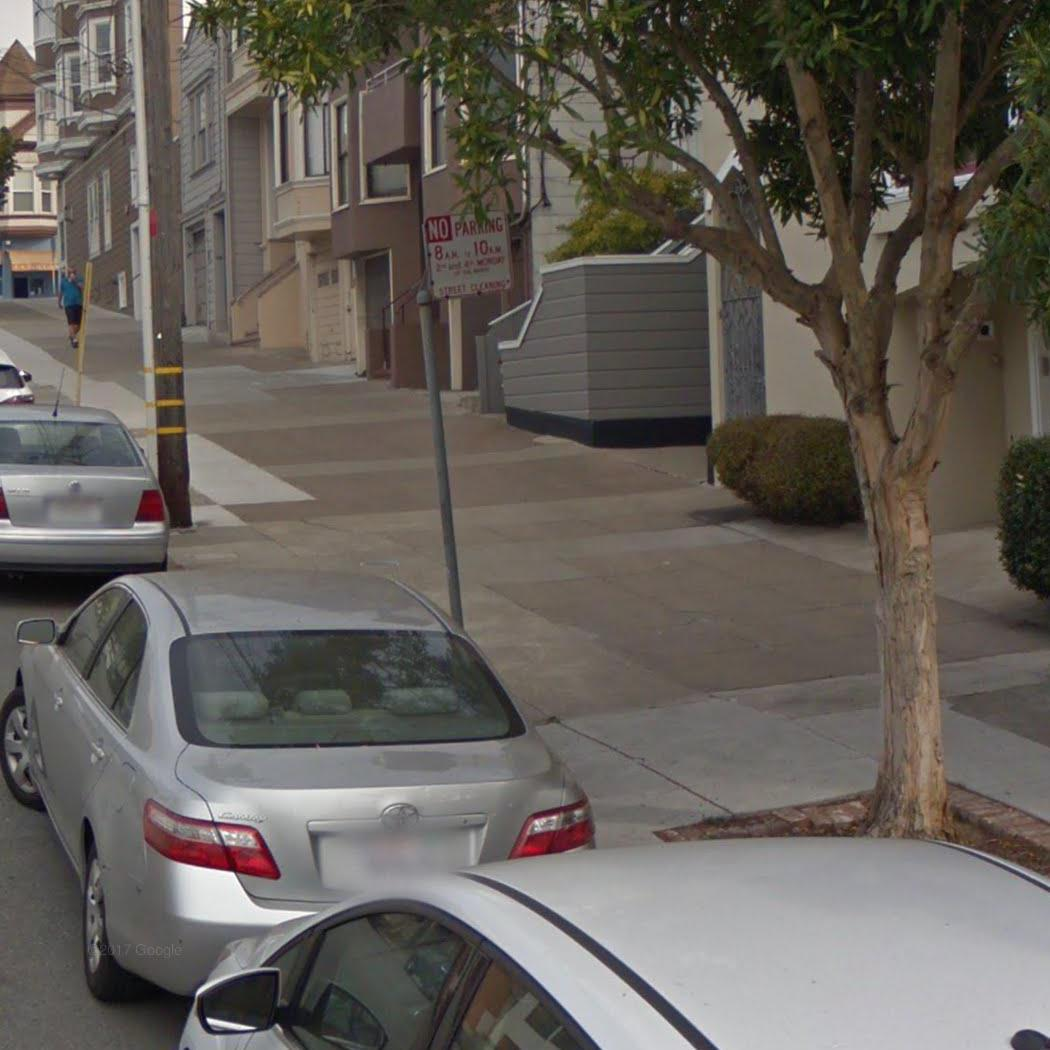No Parking: (420, 206, 516, 303)
